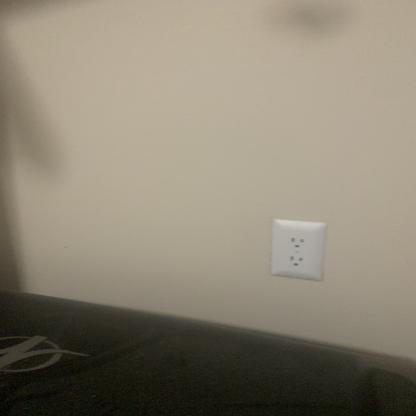OUTLET: (271, 218, 323, 282)
